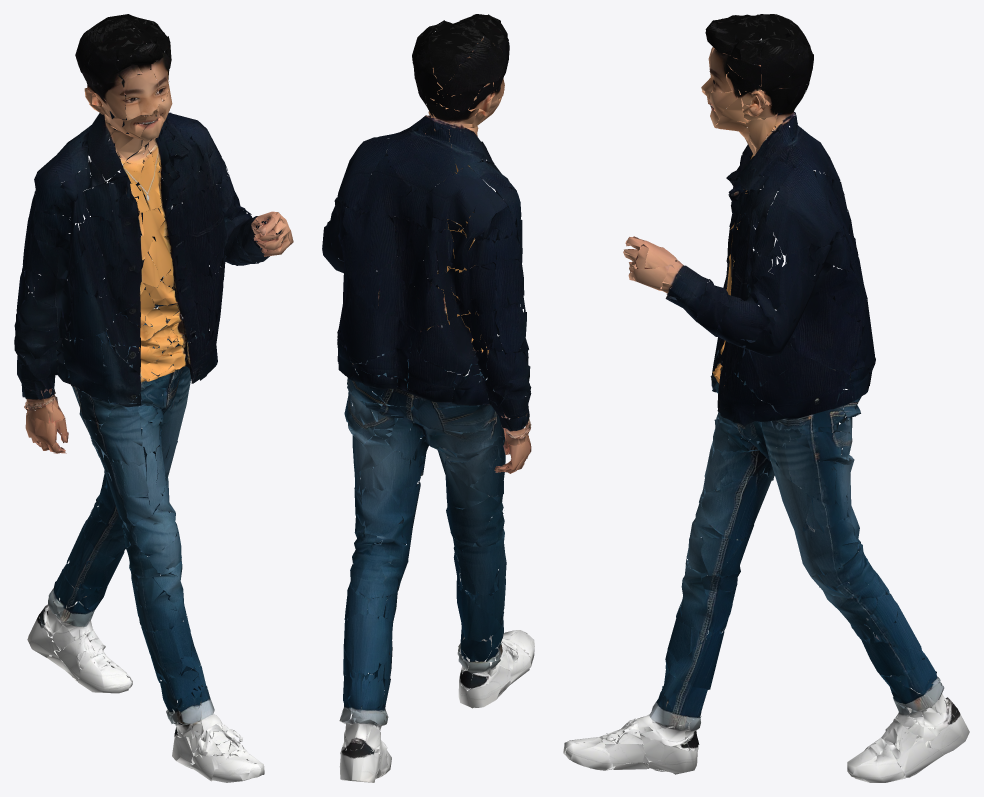
Rendered from stride-a.glb.
The picture shows the model from 3 angles, left to right: view 1: azimuth 30°, elevation 25°; view 2: azimuth 150°, elevation 25°; view 3: azimuth 270°, elevation 25°; orthographic projection. The views are drawn at different scales.
Parts seen in each view (by area): view 1: mesh_0.001; view 2: mesh_0.001; view 3: mesh_0.001.
Boxes of the visible parts, bbox=[...] form: mesh_0.001: bbox=[14, 14, 293, 782]; mesh_0.001: bbox=[322, 14, 534, 782]; mesh_0.001: bbox=[563, 14, 969, 782].
Size of the model in its own units: 0.5782 by 1.78 by 0.8914.
1 material, 1 textured.
